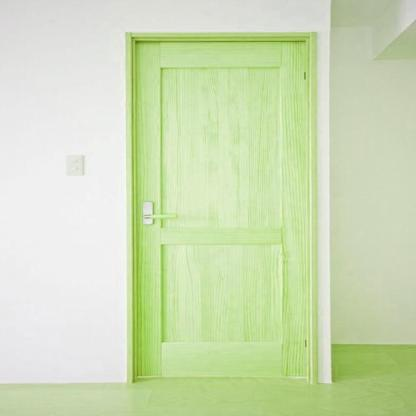door: (117, 26, 323, 390)
